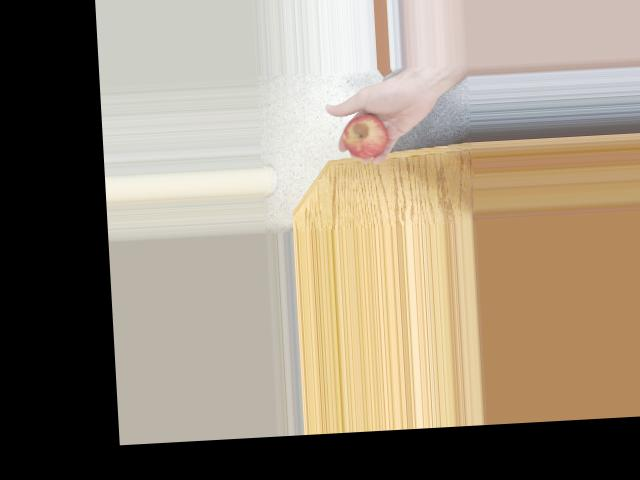apple: (335, 106, 407, 163)
